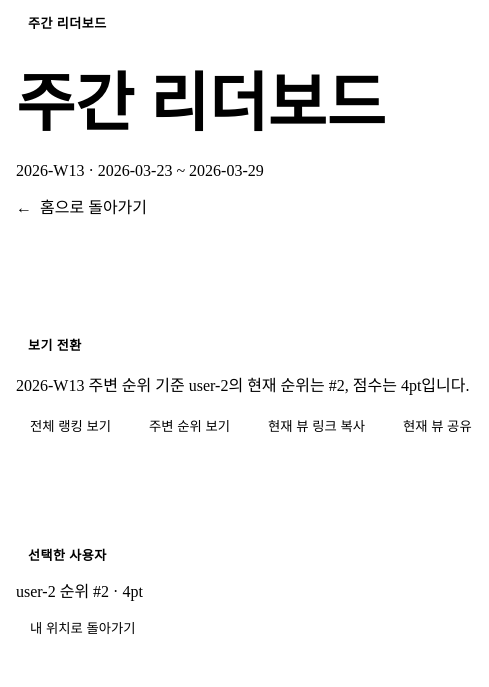
Test: leaderboard ui › copies the current focused leaderboard view link
Click the button "현재 뷰 링크 복사" at (316, 425), box [254,408,379,443]
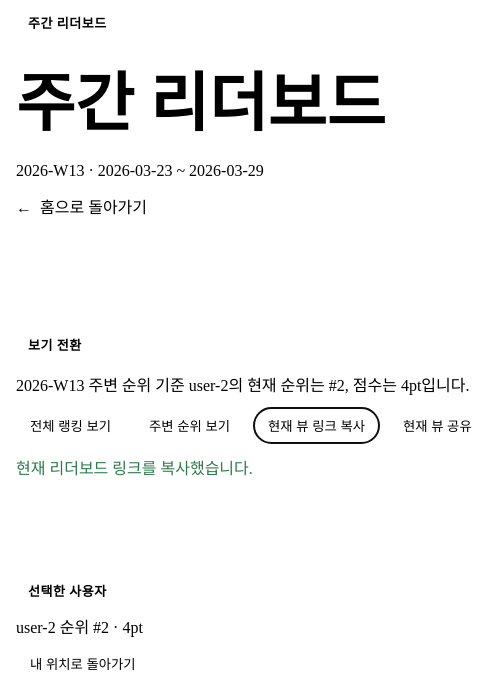
Expected: the text "2026-W13 주변 순위 기준 user-2의 현재 순위는 #2, 점수는 4pt입니다." is shown, [16,377,470,394]
Now the text "현재 리더보드 링크를 복사했습니다." is shown, box [16,460,253,477]
